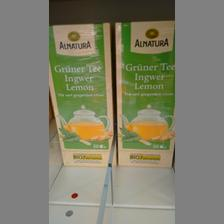Tee: (48, 21, 110, 165), (113, 20, 173, 168)
